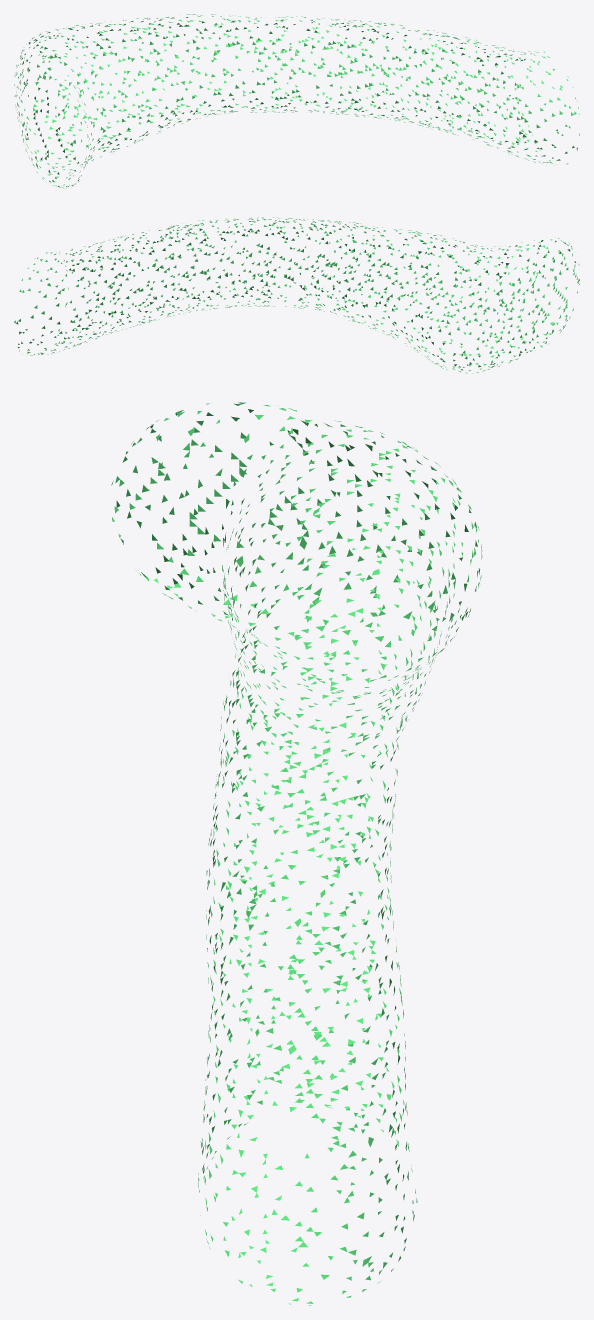
File: morph_020.glb
3 renders of one model, top to bottom at view 1: azimuth 30°, elevation 25°; view 2: azimuth 150°, elevation 25°; view 3: azimuth 270°, elevation 25°, orthographic. The views are drawn at different scales.
Size of the model in its own units: 104 by 43.43 by 33.58.
